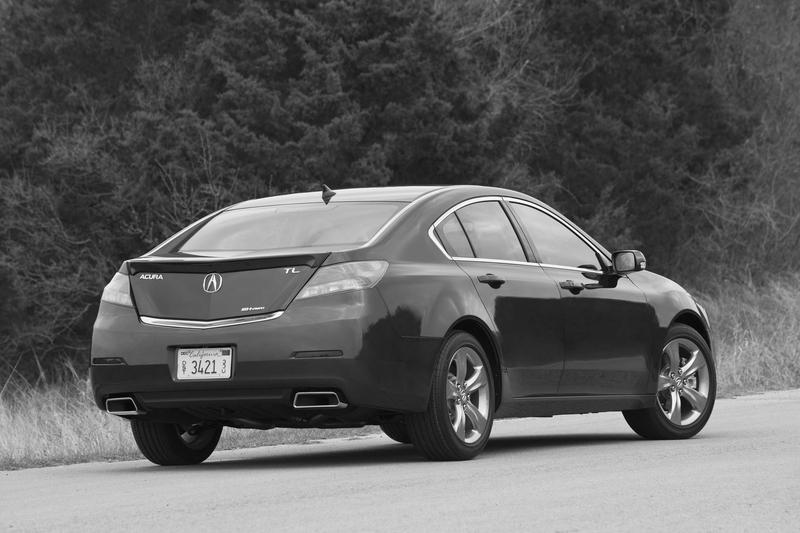car: (89, 182, 719, 467)
